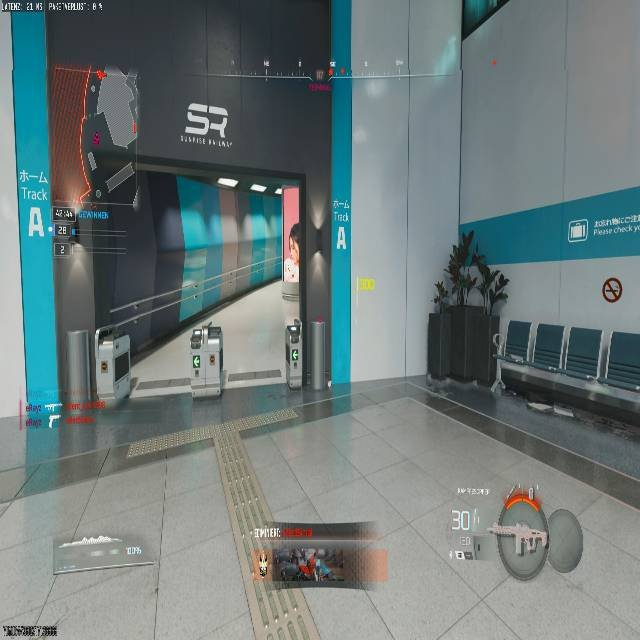player: (431, 232, 509, 397)
